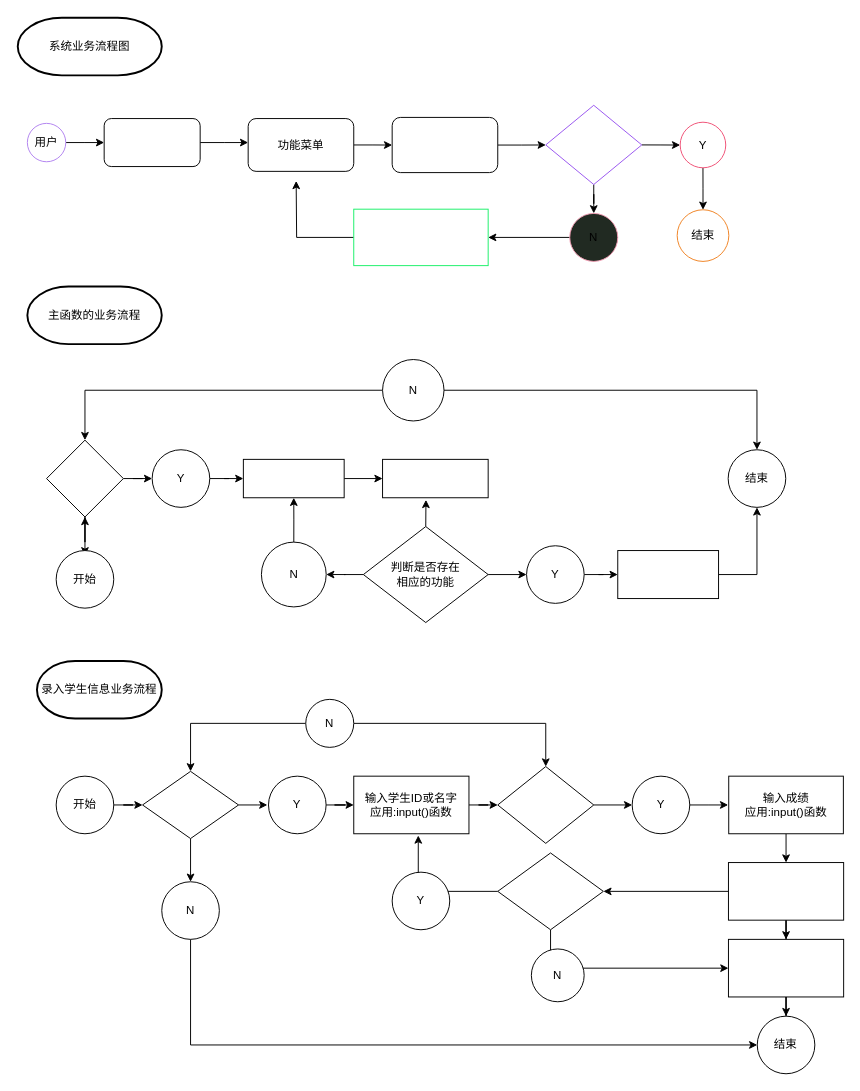
Image size: 860x1091. Some labels were removed from this diagram. Here are the shapes that lost their labels. From the top down, the centre of each, then its label:
the point at 151,142: 主界面
the point at 444,144: 选择功能
the point at 593,144: 是否为0
the point at 420,237: 执行相应的功能
the point at 84,478: 循环变量 是否为ture
the point at 293,478: 显示主菜单 应用:print()函数
the point at 435,478: 输入或选择菜单项 应用:input()函数
the point at 668,574: 调用相应的函数
the point at 190,804: 循环变量是 否为ture
the point at 545,804: 判断是否输入
the point at 550,891: 判断是否继续
the point at 785,891: 保存在列表中 应用:list.appdend()方法
the point at 785,967: 保存在文件中 应用:open()函数 File.write()方法
